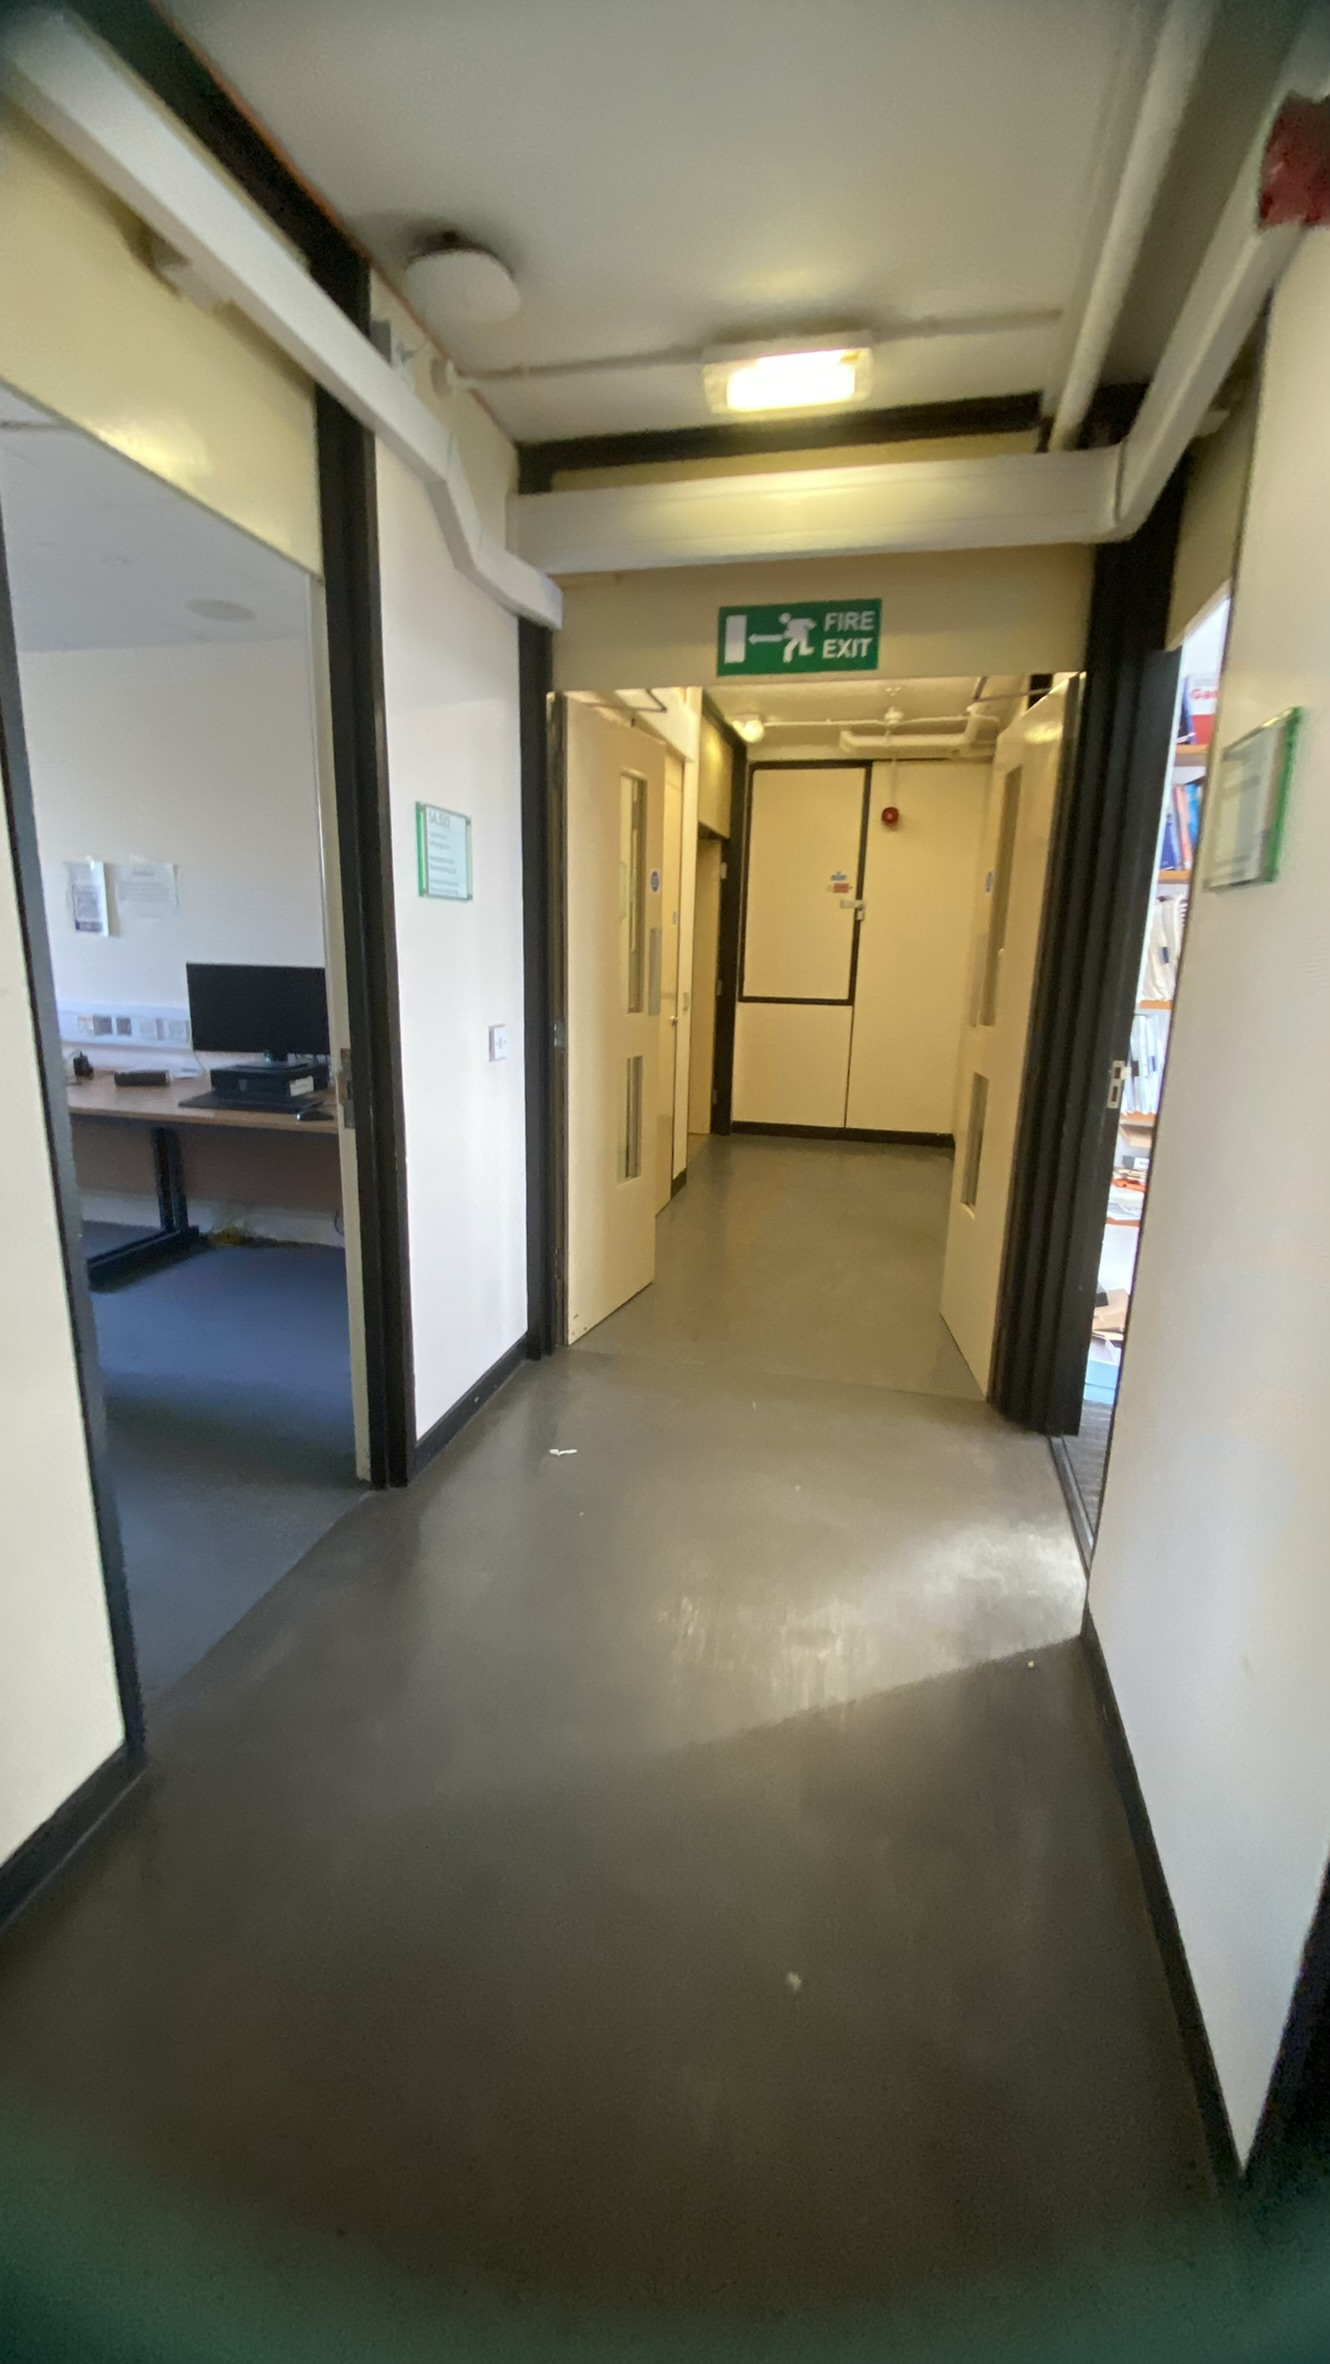door: (16, 383, 416, 1710), (499, 520, 1043, 1370)
